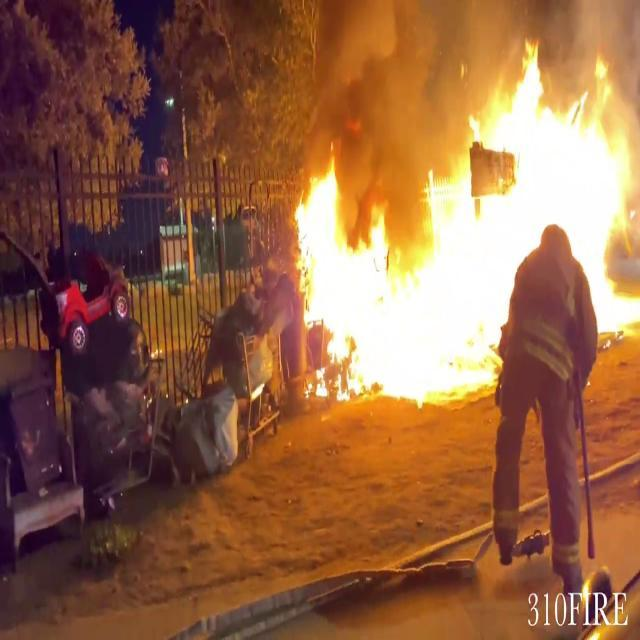Fire: (278, 39, 638, 410)
